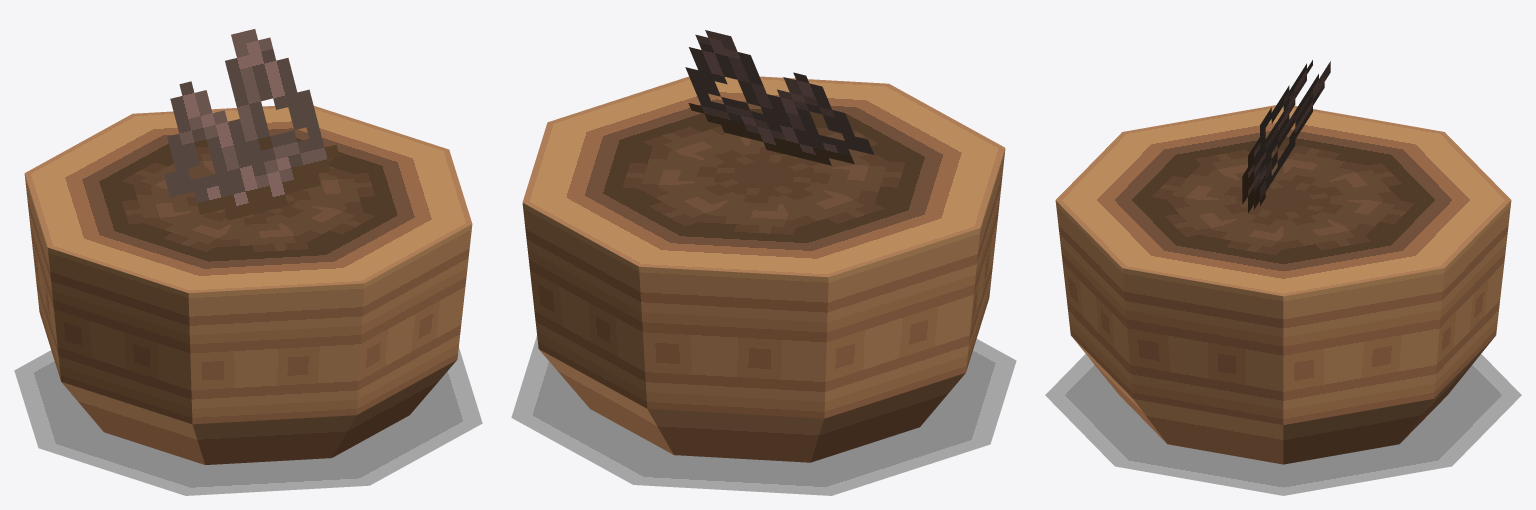
3 renders of one model, left to right at view 1: azimuth 30°, elevation 25°; view 2: azimuth 150°, elevation 25°; view 3: azimuth 270°, elevation 25°, orthographic. The views are drawn at different scales.
Parts seen in each view (by area): view 1: polygon1, polygon0, polygon2; view 2: polygon1, polygon0, polygon2; view 3: polygon1, polygon0, polygon2.
Part boxes in pixels (x1=…): polygon1: x1=24, y1=105, x2=472, y2=464; polygon0: x1=14, y1=347, x2=482, y2=495; polygon2: x1=164, y1=29, x2=339, y2=220; polygon1: x1=522, y1=76, x2=1005, y2=462; polygon0: x1=511, y1=336, x2=1016, y2=495; polygon2: x1=685, y1=30, x2=874, y2=165; polygon1: x1=1055, y1=105, x2=1511, y2=464; polygon0: x1=1045, y1=354, x2=1521, y2=495; polygon2: x1=1242, y1=60, x2=1330, y2=213.
Size of the model in its own units: 14.95 by 11.67 by 14.95.
